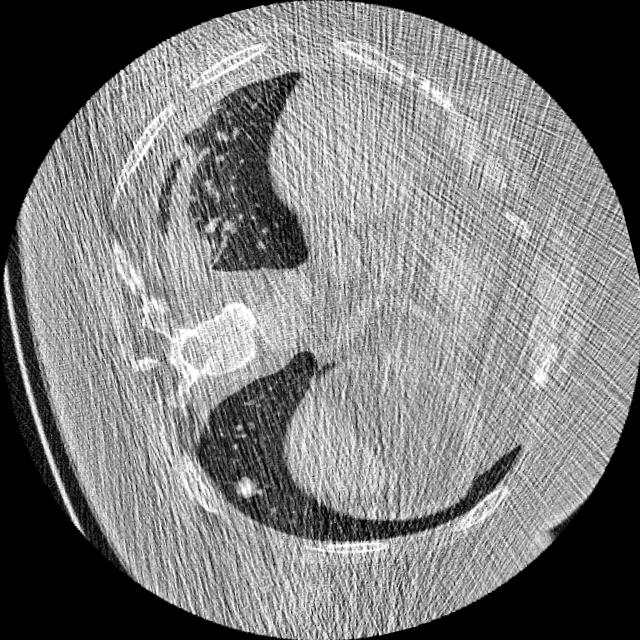nodule: (223, 461, 271, 509)
